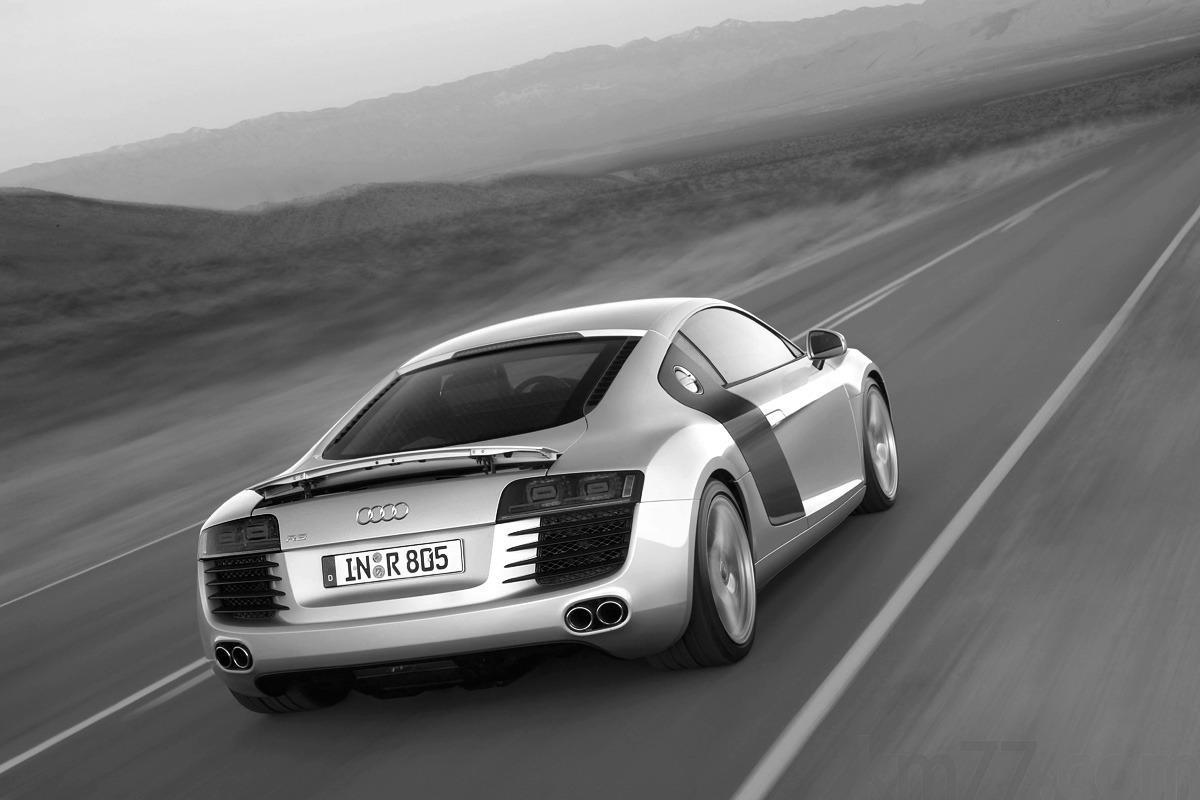car: (191, 299, 907, 667)
